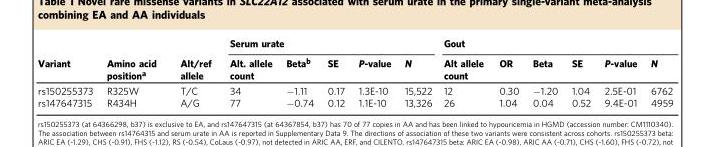table: (36, 36, 672, 107)
table column: (99, 36, 167, 107), (36, 36, 99, 107), (219, 36, 278, 107), (437, 36, 490, 107), (167, 36, 219, 107), (351, 36, 397, 107), (597, 36, 643, 107), (278, 36, 319, 107), (397, 36, 437, 107), (525, 36, 564, 107), (490, 36, 525, 107), (564, 36, 597, 107), (319, 36, 351, 107), (643, 36, 672, 107)
table column header: (36, 36, 672, 82)
table row: (36, 51, 672, 82), (36, 36, 672, 51), (36, 82, 672, 95), (36, 95, 672, 107)
table spanning cell: (437, 36, 672, 51), (219, 36, 437, 51), (99, 36, 167, 82), (36, 36, 99, 82), (167, 36, 219, 82)
